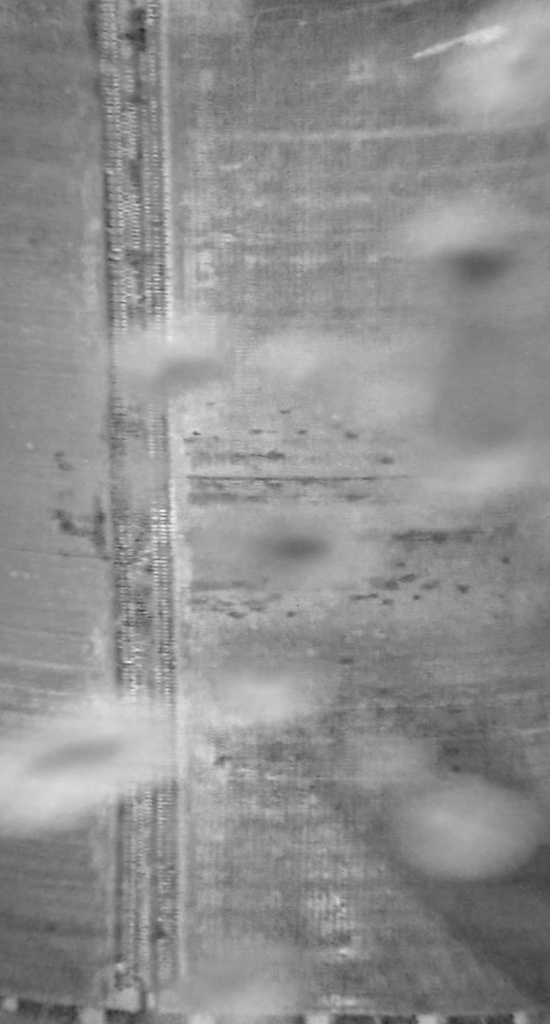splice: (86, 3, 183, 1024)
